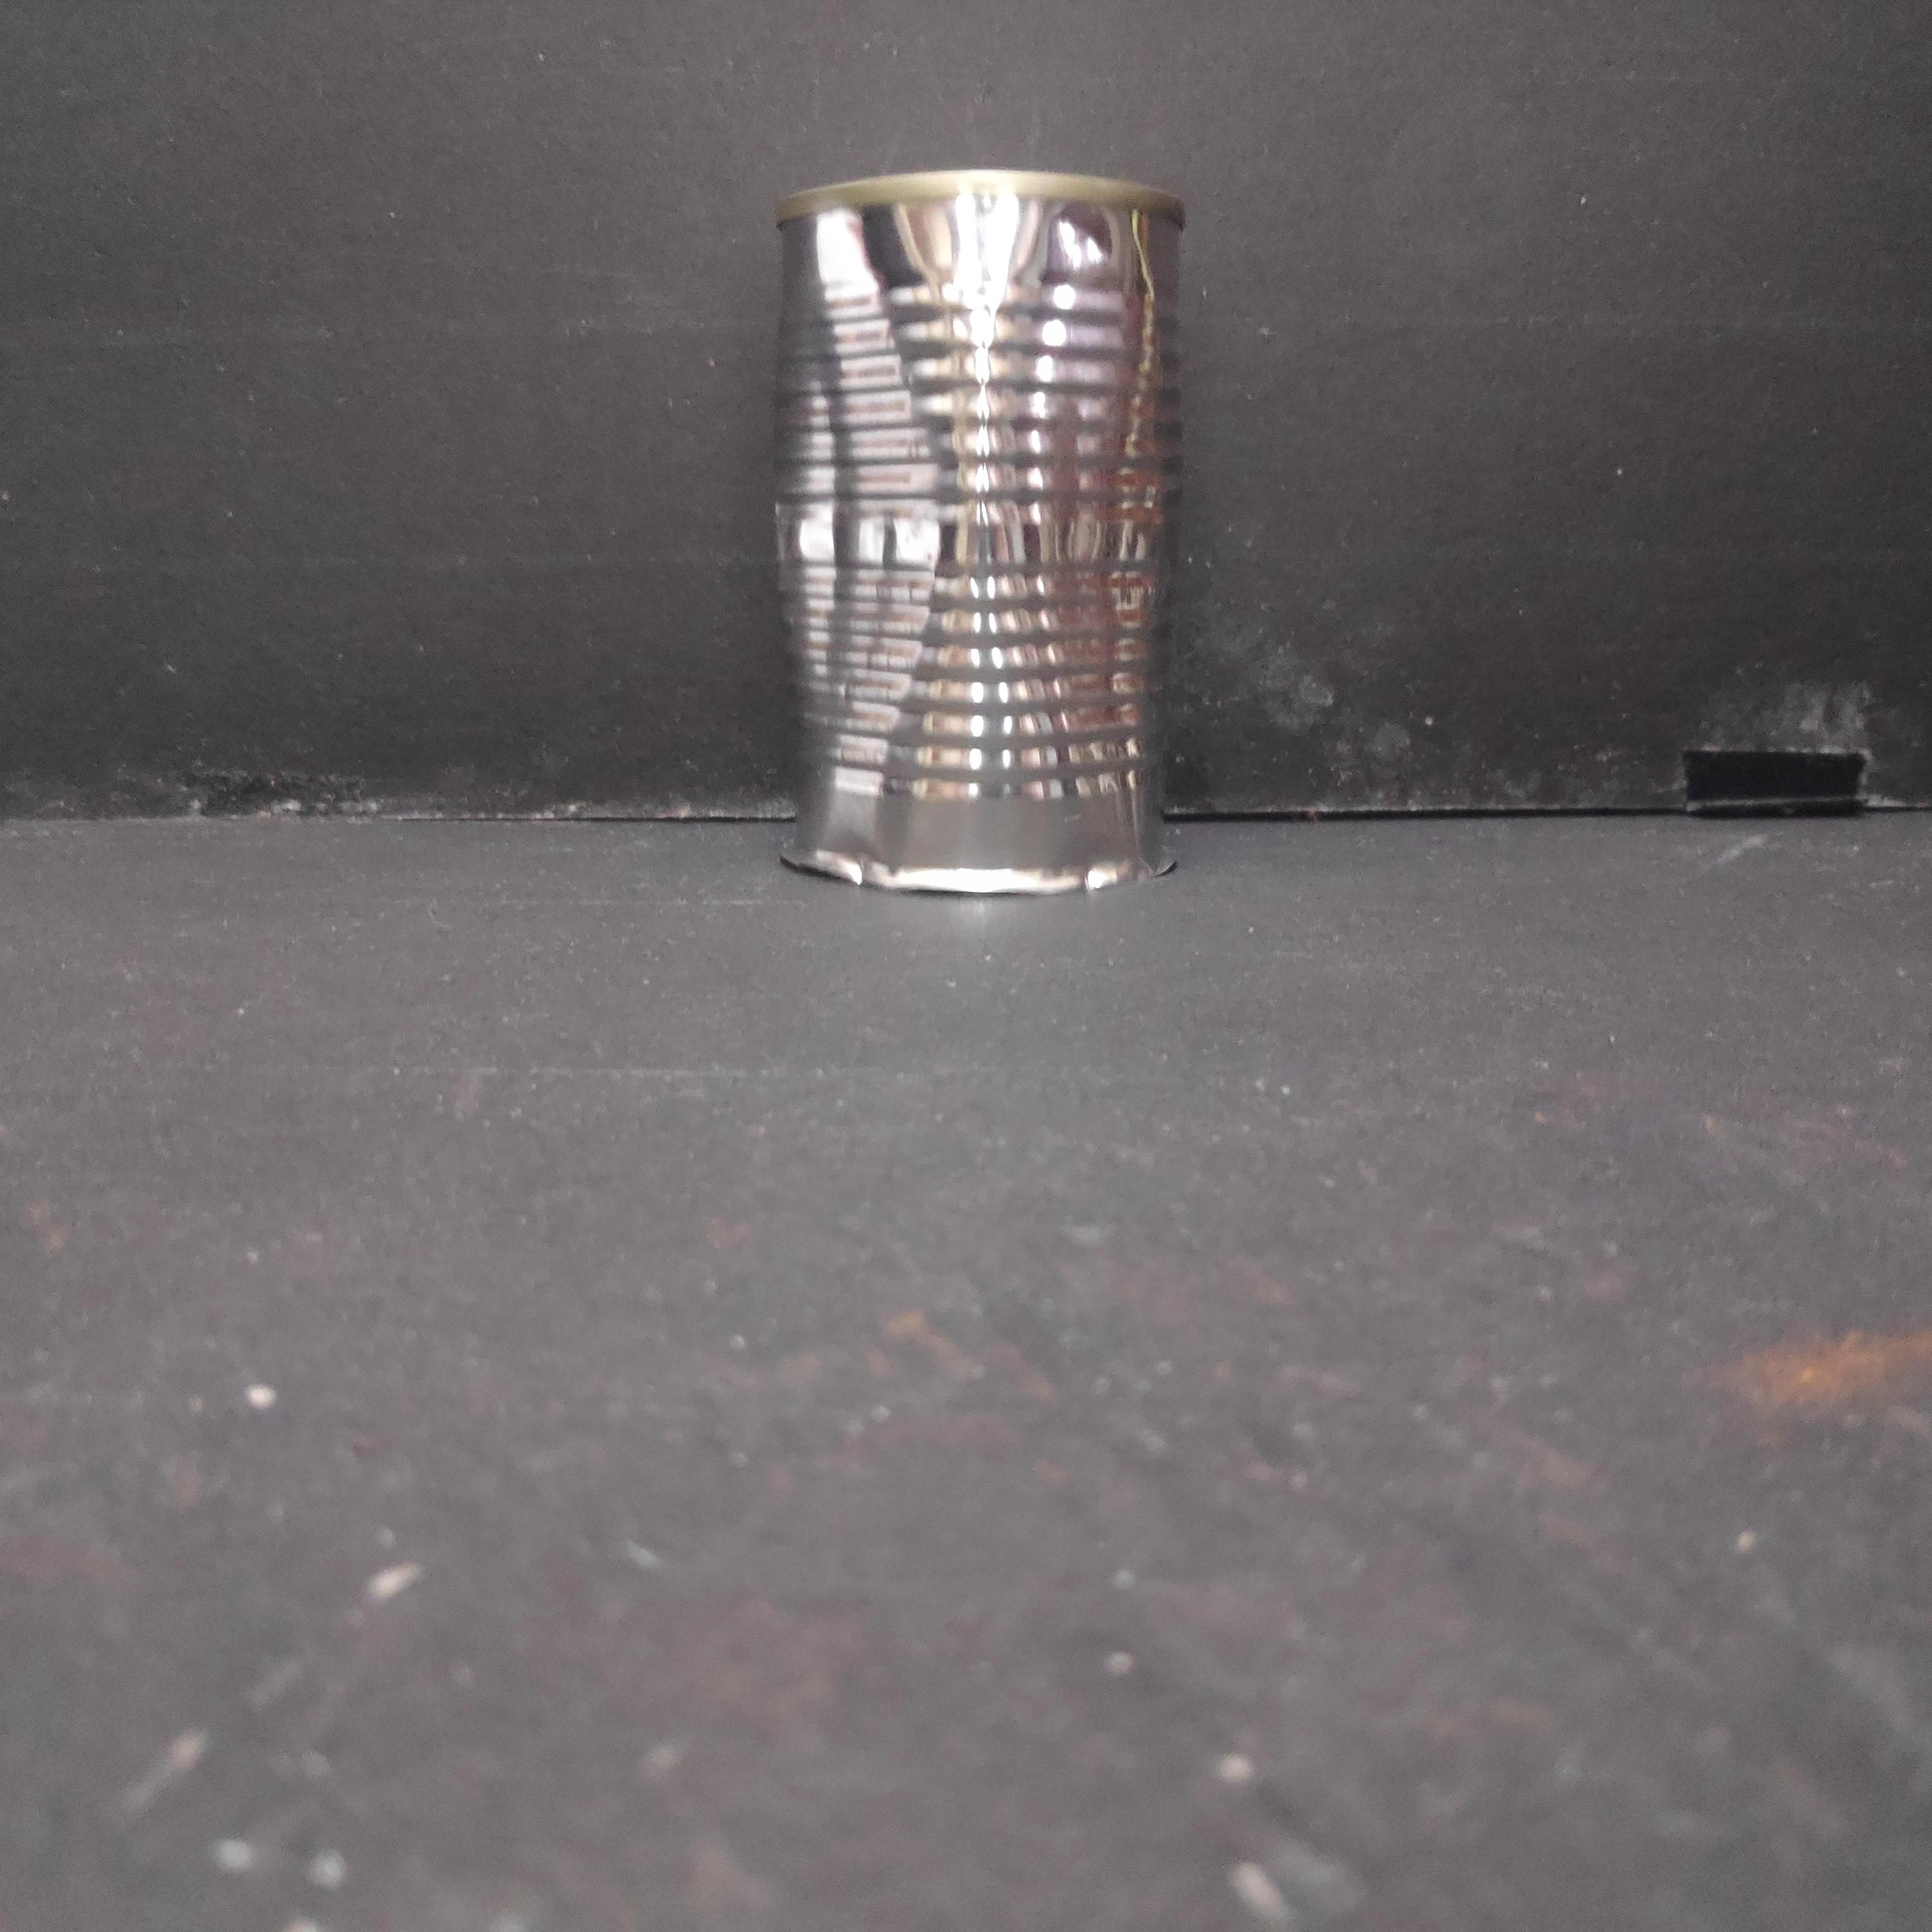Minor Defect: (768, 163, 1200, 906)
